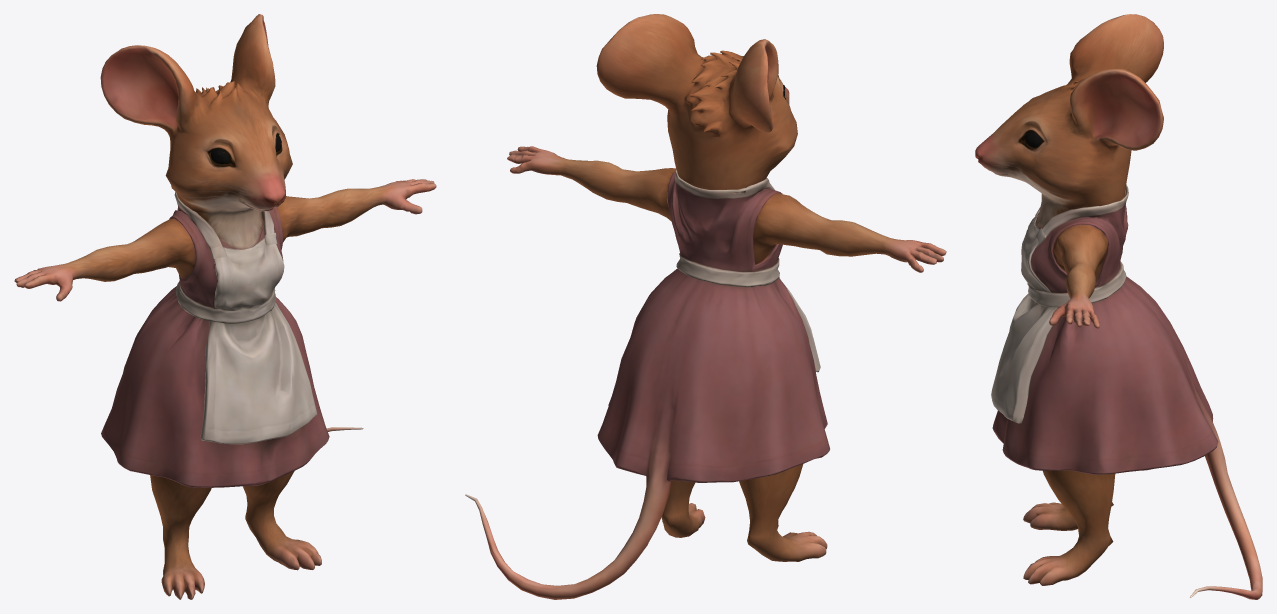
The model's file is source.glb.
The picture shows the model from 3 angles, left to right: view 1: azimuth 30°, elevation 25°; view 2: azimuth 150°, elevation 25°; view 3: azimuth 270°, elevation 25°; orthographic projection. The views are drawn at different scales.
Visible parts, largest first — view 1: geometry_0; view 2: geometry_0; view 3: geometry_0.
Part boxes in pixels (bbox=[...]): geometry_0: bbox=[14, 14, 436, 599]; geometry_0: bbox=[465, 14, 946, 599]; geometry_0: bbox=[975, 14, 1262, 599].
Bounding box in the file's own units: 0.8032 × 0.9502 × 0.4868.
1 material, 1 textured.
